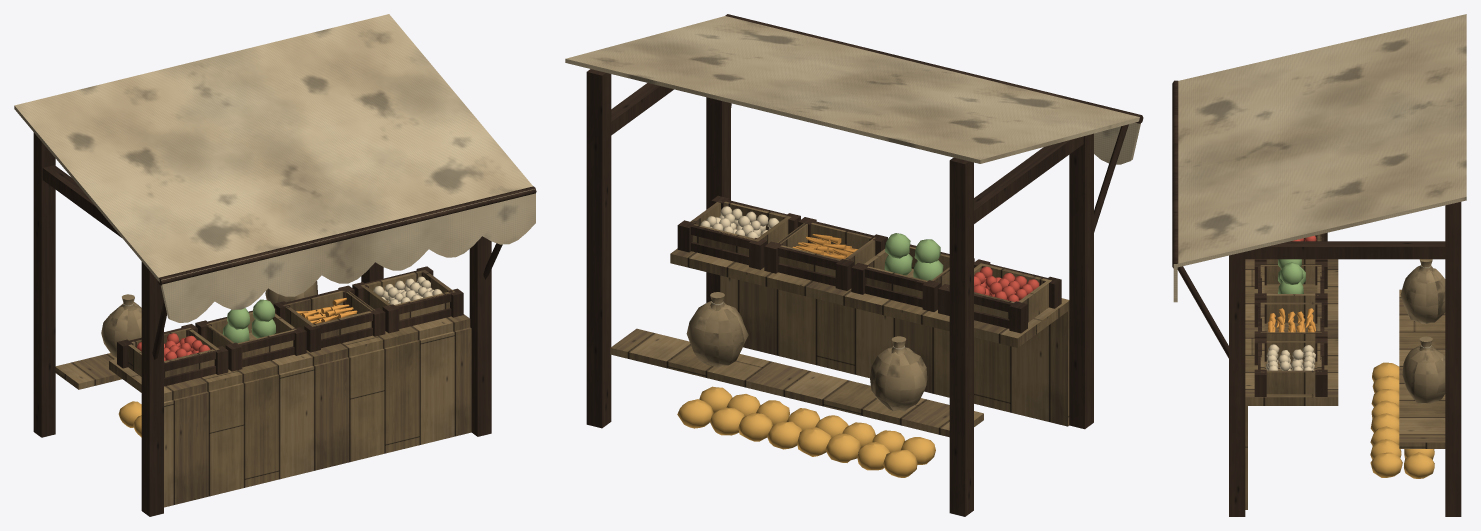
Rendered from market_stall_produce.gltf.
3 views of the same model, side by side, from view 1: azimuth 30°, elevation 25°; view 2: azimuth 150°, elevation 25°; view 3: azimuth 270°, elevation 25° (orthographic). The views are drawn at different scales.
Visible parts, largest first — view 1: INT_stall_produce; view 2: INT_stall_produce; view 3: INT_stall_produce.
Boxes of the visible parts, x1=… form: INT_stall_produce: x1=14, y1=14, x2=536, y2=516; INT_stall_produce: x1=565, y1=14, x2=1143, y2=516; INT_stall_produce: x1=1172, y1=14, x2=1466, y2=516.
Size of what is drawn, in the model's own units: 3.2 by 2.68 by 2.18.
10 materials, 4 textured.
